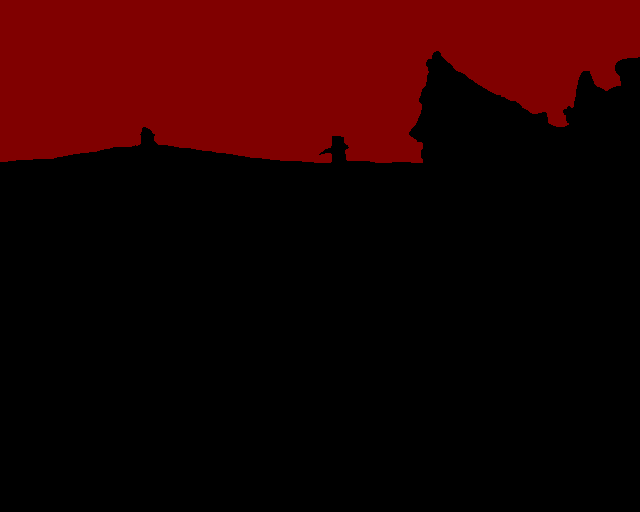Sky: (1, 1, 639, 163)
